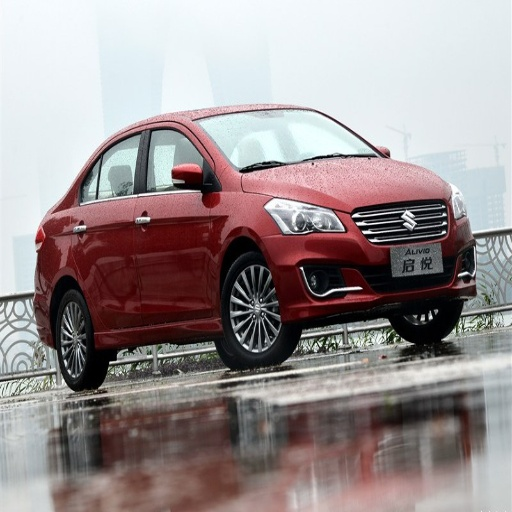front_bumper: (269, 196, 476, 326)
front_right_door: (135, 123, 218, 324)
front_right_light: (266, 199, 344, 233)
